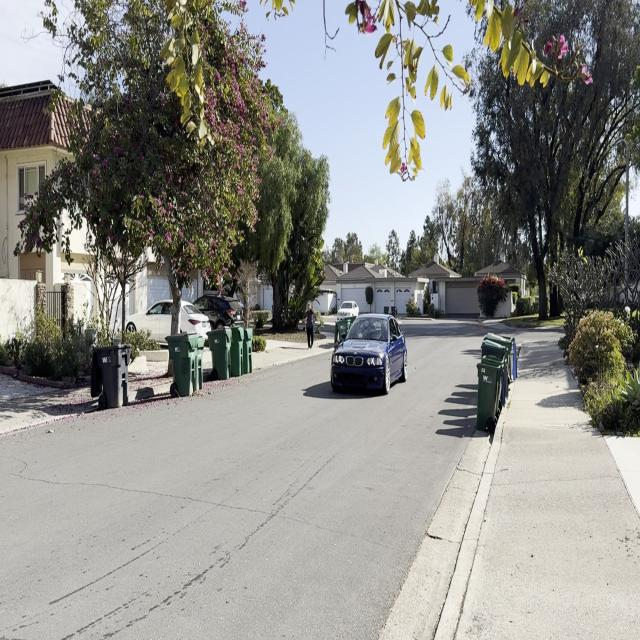Carbeetle: (320, 306, 418, 407)
